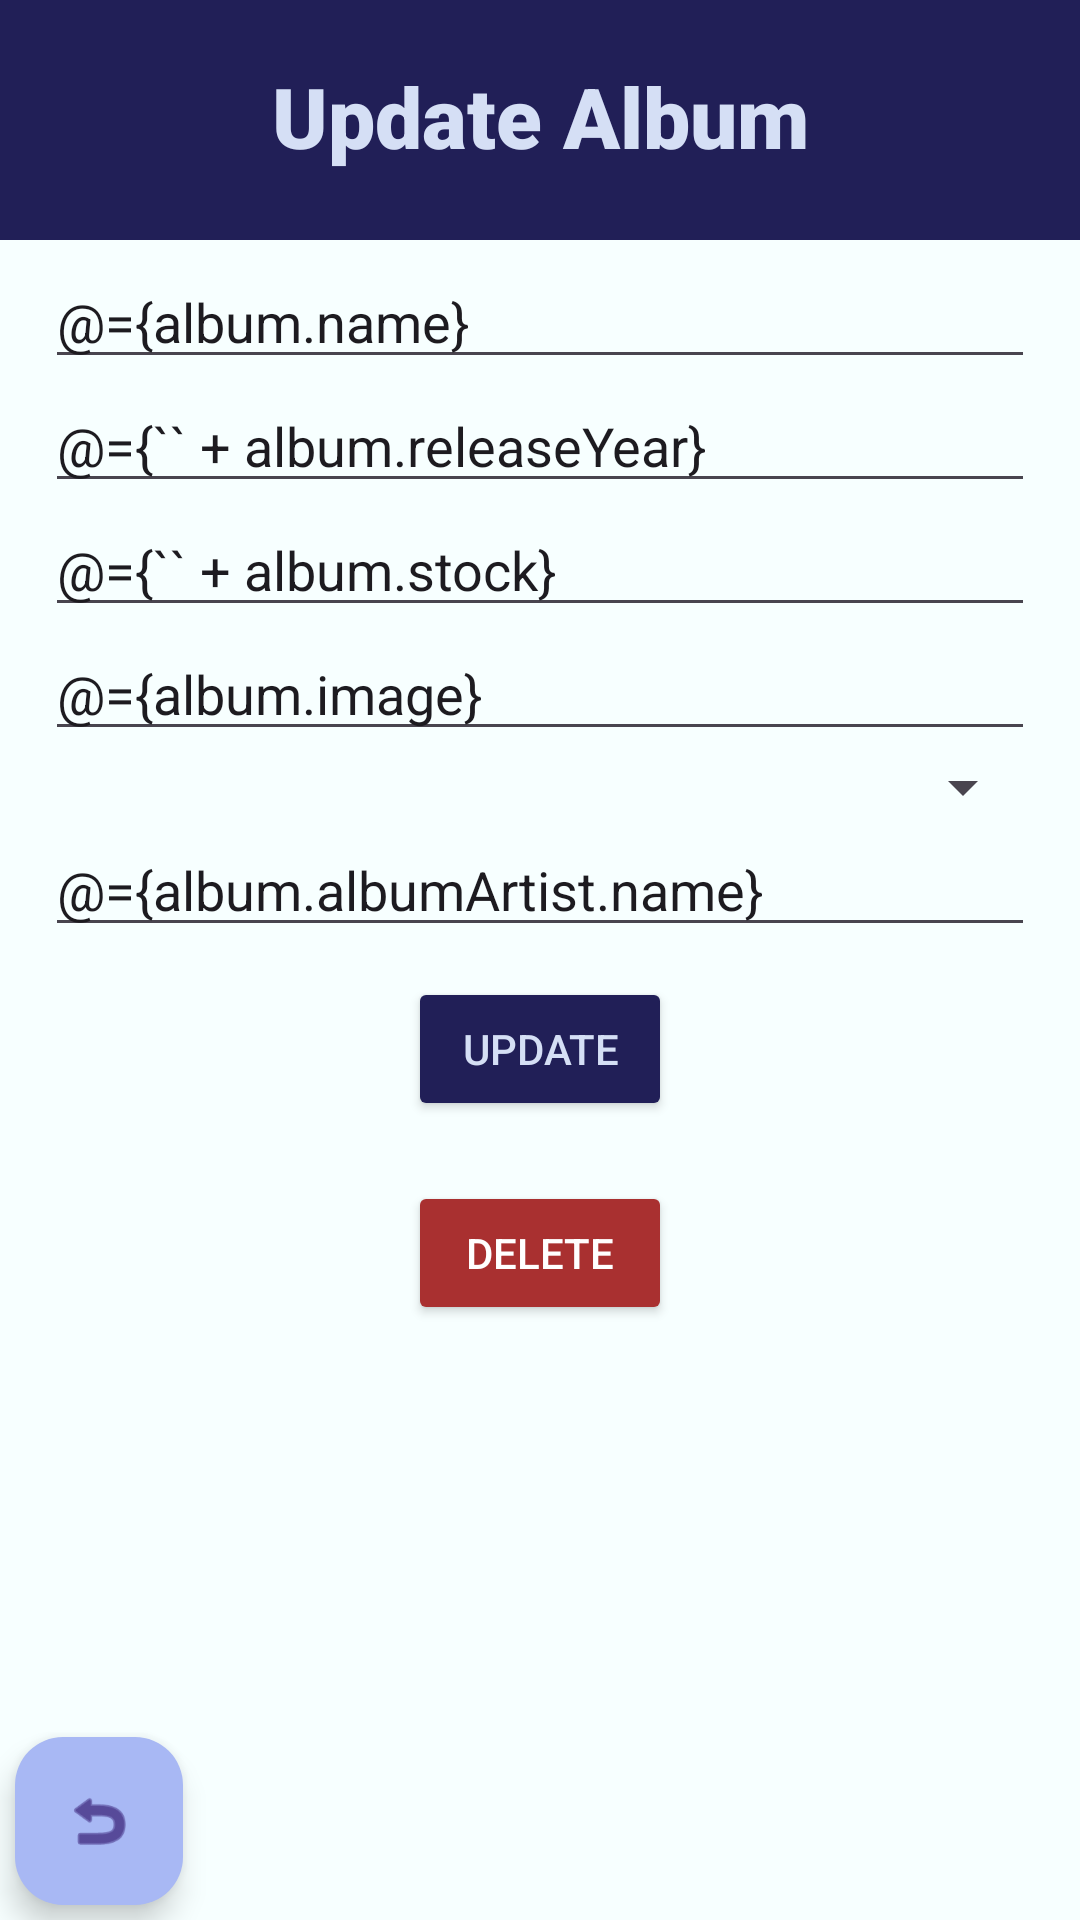

Point at icon controls on the screen. Image size 1080x1920, points as (x=x, y=y).
revert: (x=99, y=1821)
